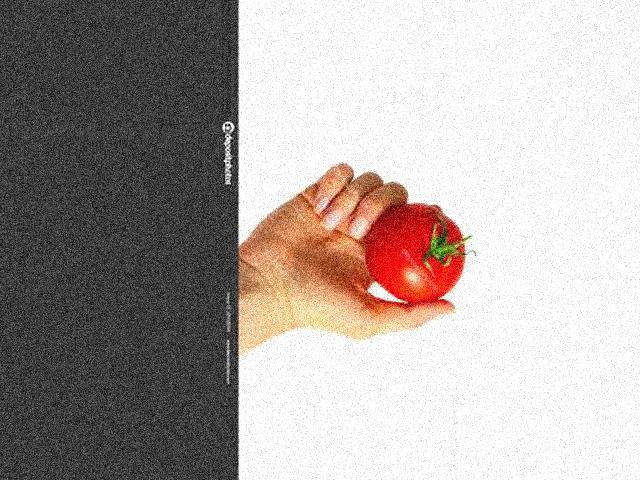tomato: (364, 205, 465, 302)
